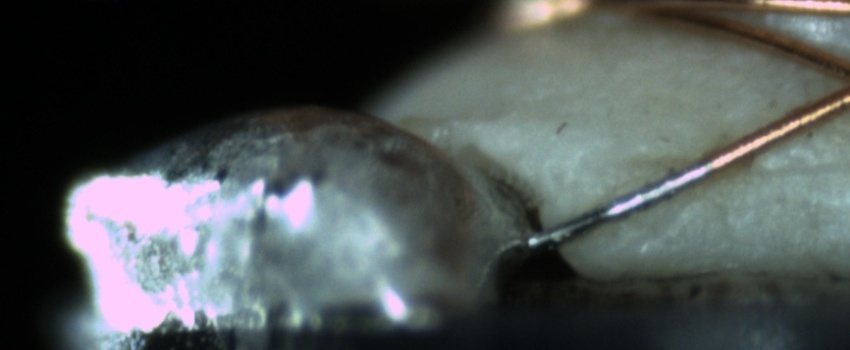DL: (746, 140, 849, 204)
TS: (525, 159, 716, 250)
